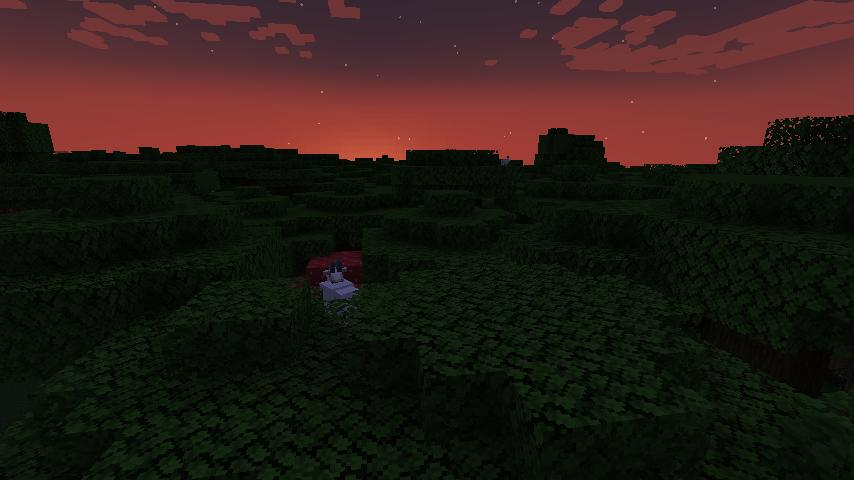goat: (320, 258, 360, 319)
